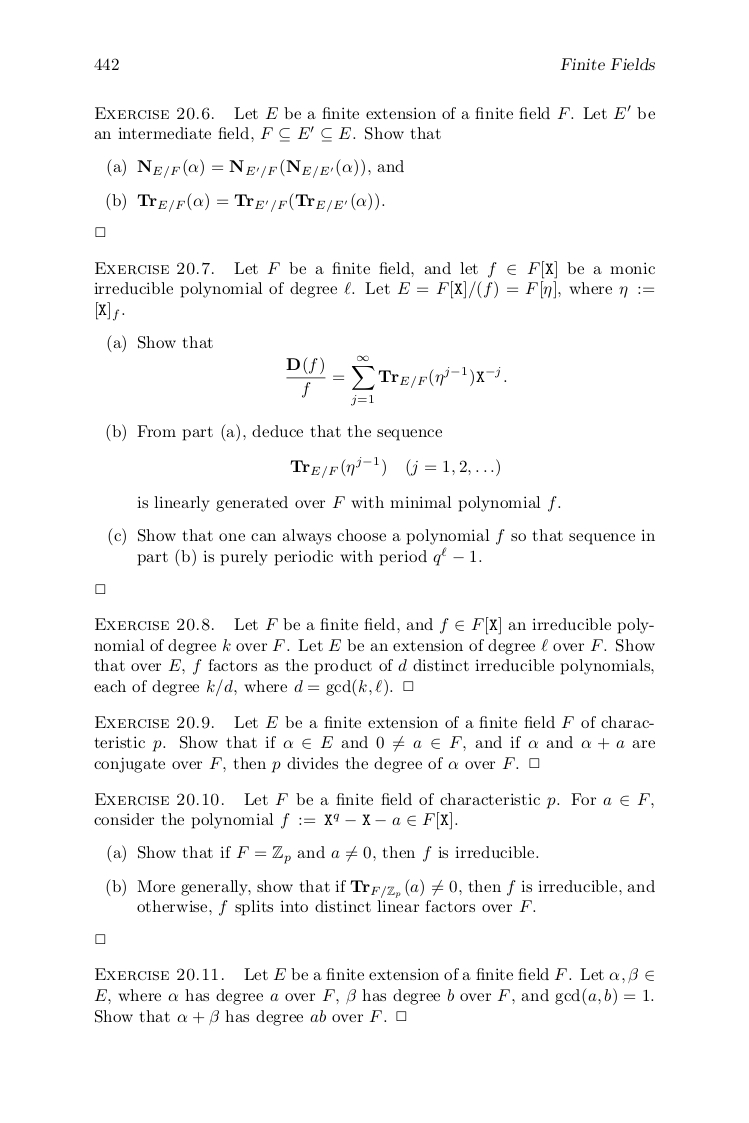figure: (95, 584, 105, 593), (95, 934, 105, 943)
formula: (286, 354, 506, 406), (107, 158, 403, 178), (106, 192, 384, 212), (290, 455, 499, 478)
